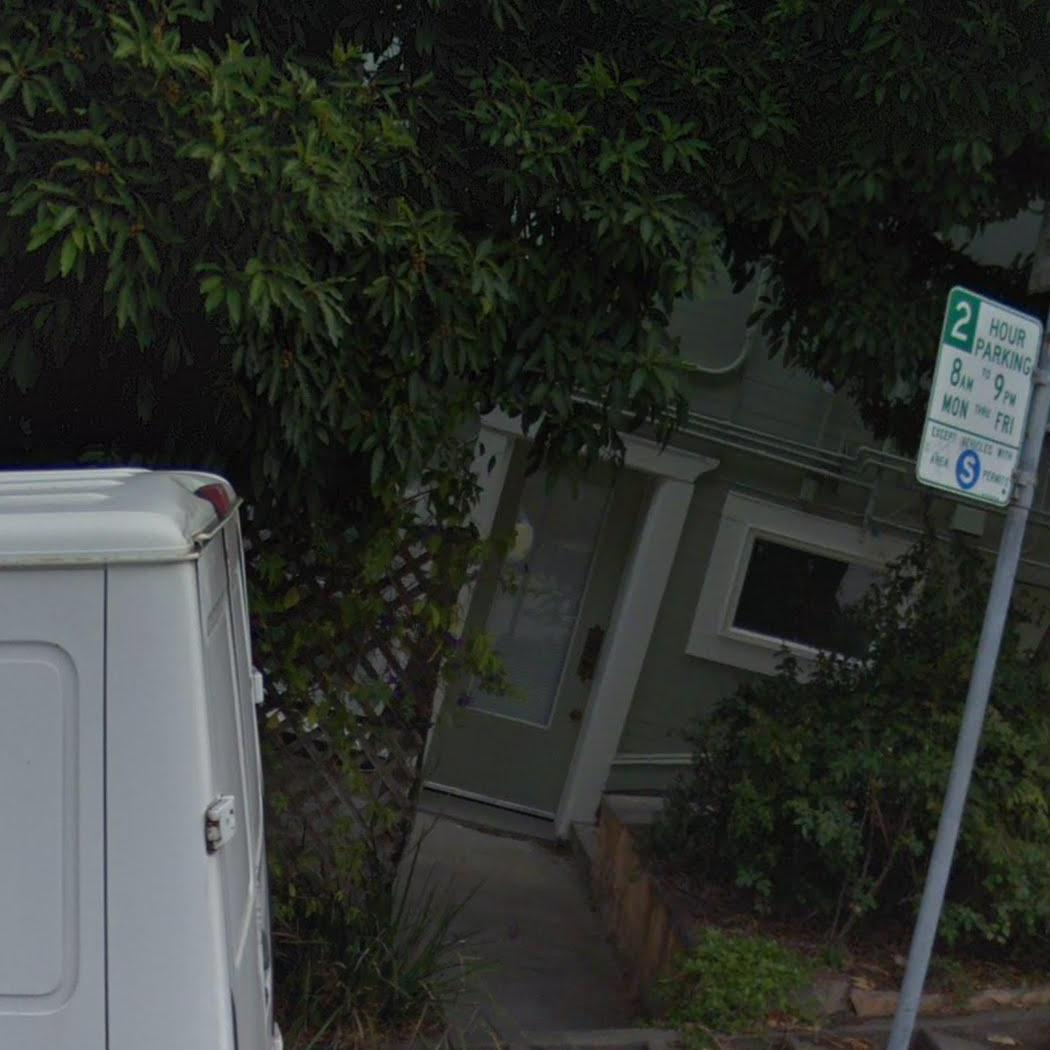2 Hour Parking: (911, 283, 1045, 509)
